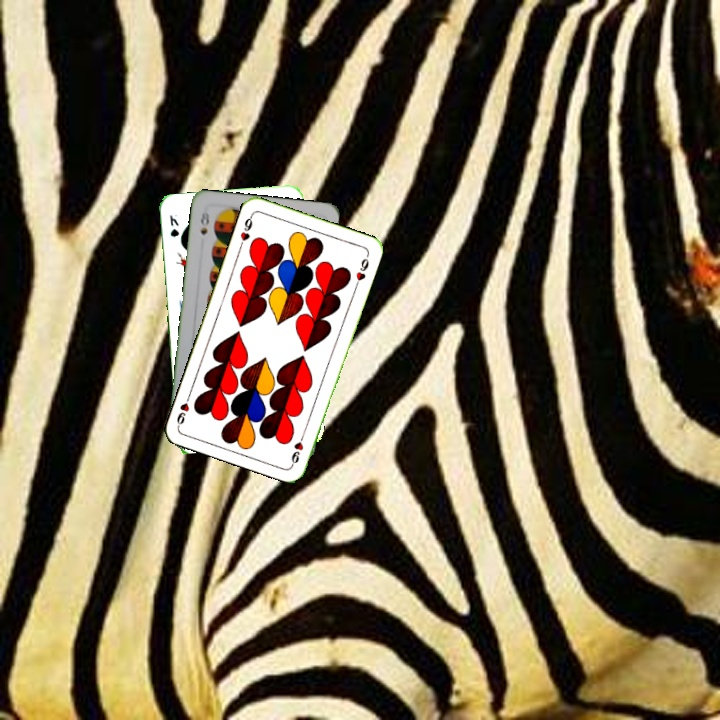GK: (166, 211, 182, 239)
H9: (287, 428, 308, 467), (236, 210, 255, 250)
S8: (196, 207, 212, 238)
